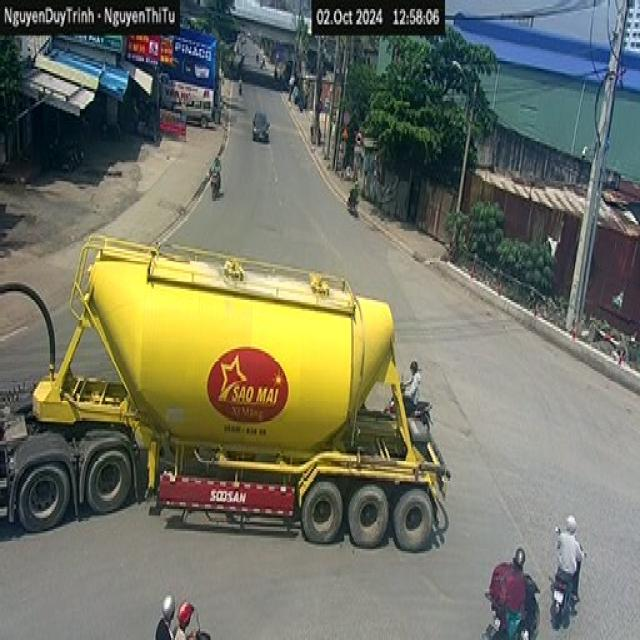car: (251, 109, 270, 142)
container-truck: (1, 229, 451, 551)
motorcycle: (544, 565, 590, 640), (489, 597, 546, 640), (389, 393, 439, 439), (211, 173, 232, 201), (345, 204, 369, 224)
person: (554, 514, 584, 614), (382, 358, 422, 416), (172, 600, 196, 638), (155, 593, 175, 638), (208, 153, 230, 181), (348, 177, 362, 214)
